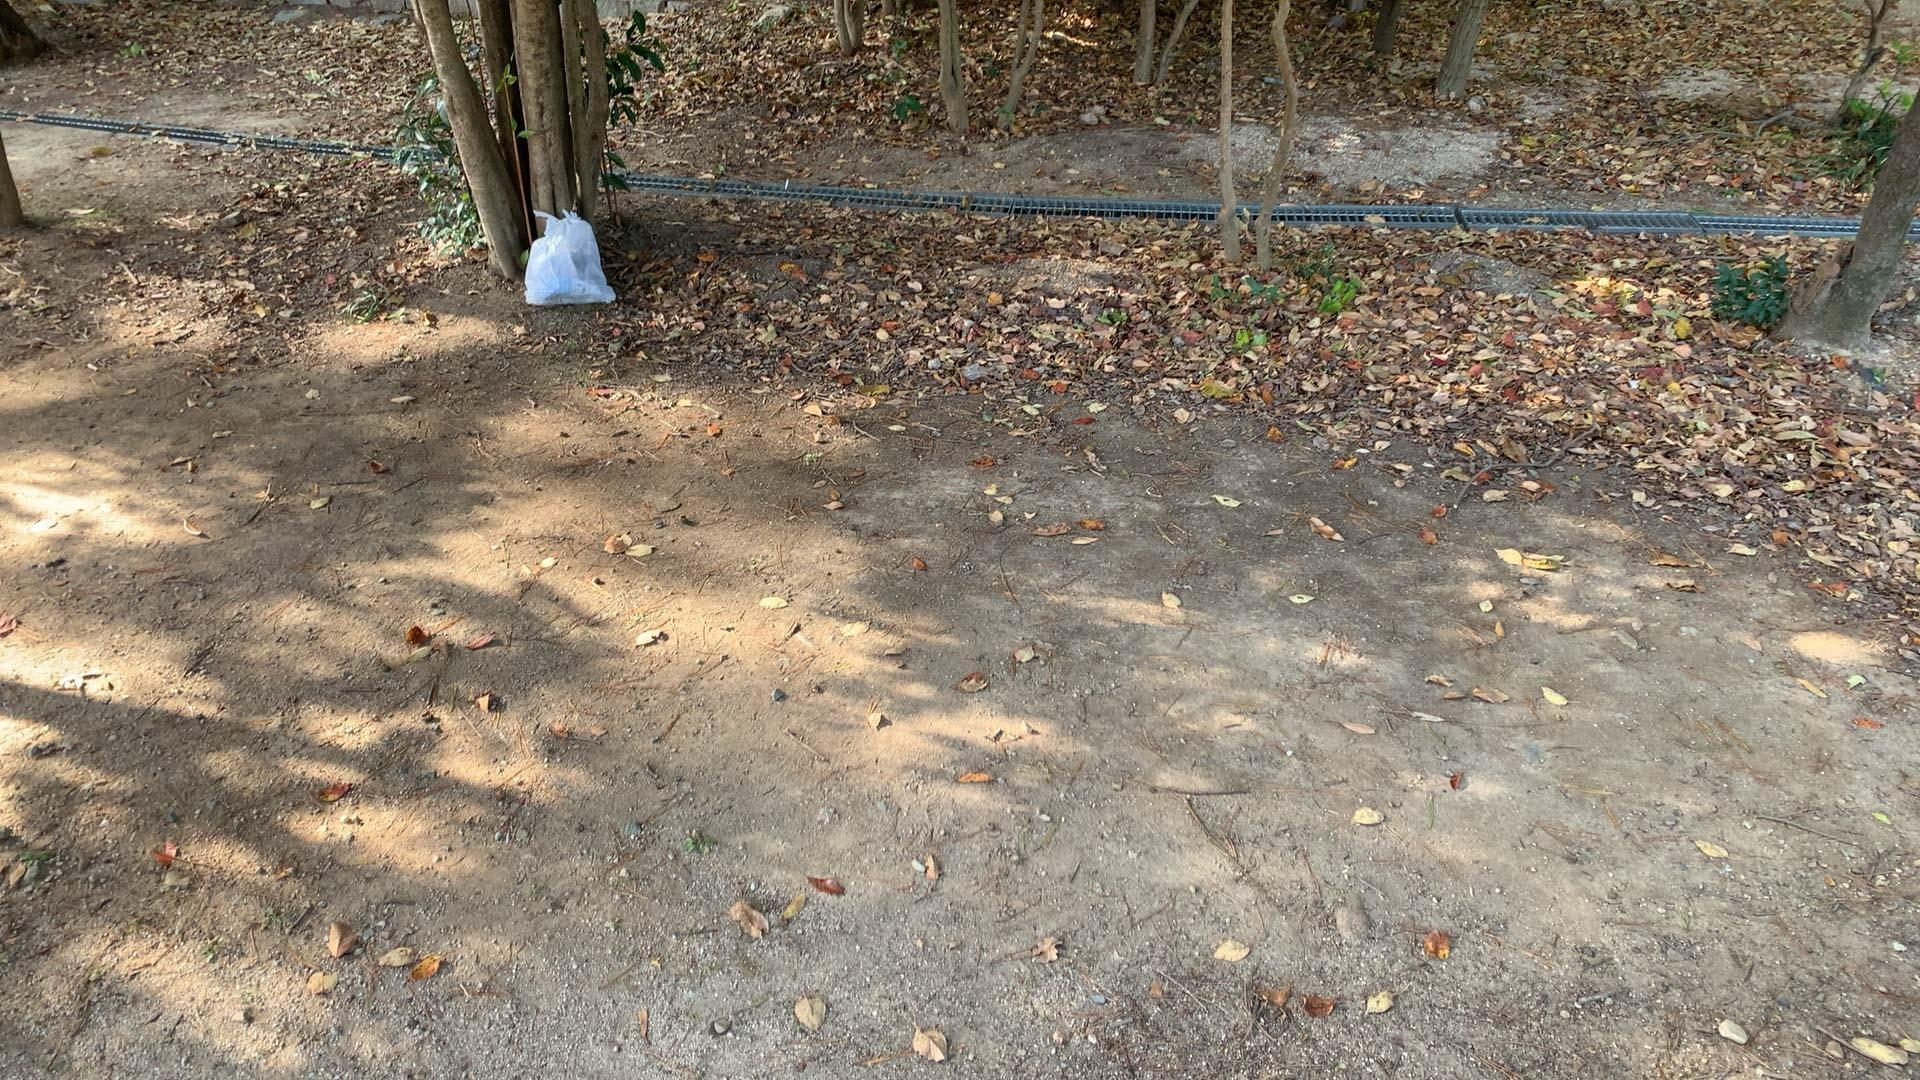white_bag: (518, 200, 620, 309)
